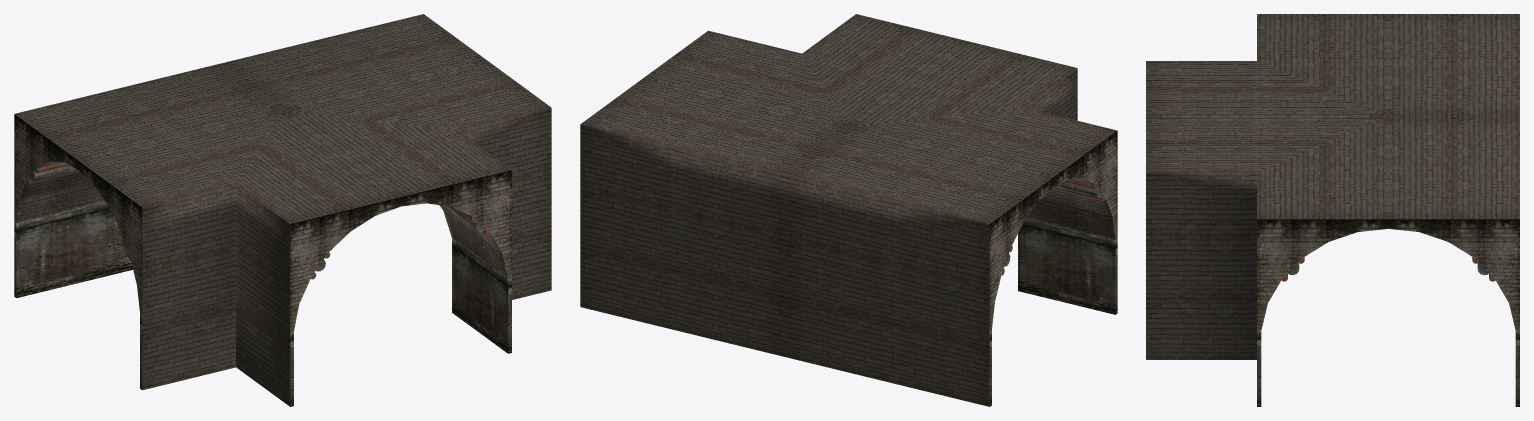
Rendered from sewer wall T.FBX.
3 renders of one model, left to right at view 1: azimuth 30°, elevation 25°; view 2: azimuth 150°, elevation 25°; view 3: azimuth 270°, elevation 25°, orthographic. The views are drawn at different scales.
Parts seen in each view (by area): view 1: T arc; view 2: T arc; view 3: T arc.
Part boxes in pixels (box(x1,y1,x2,y2)): T arc: box(14, 14, 551, 406); T arc: box(580, 14, 1117, 406); T arc: box(1146, 14, 1519, 406).
Size of the model in its own units: 3155 by 1347 by 2429.
